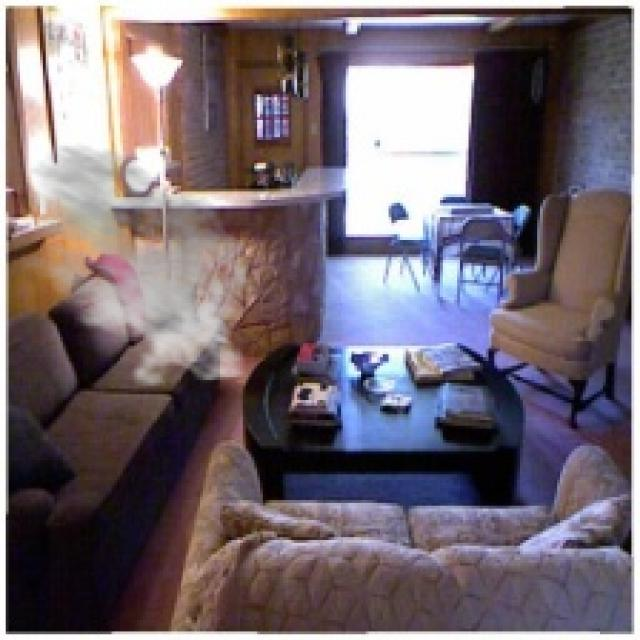smoke: (9, 143, 260, 388)
